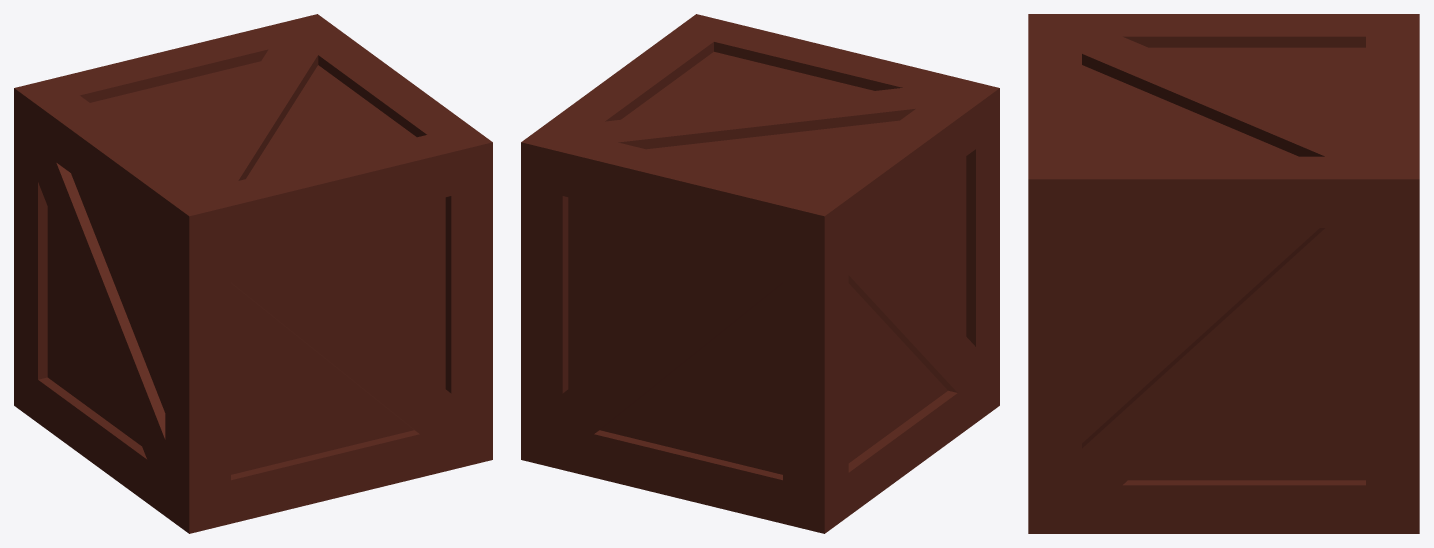
File: cratemesh.glb
3 views of the same model, side by side, from view 1: azimuth 30°, elevation 25°; view 2: azimuth 150°, elevation 25°; view 3: azimuth 270°, elevation 25° (orthographic). The views are drawn at different scales.
Visible parts, largest first — view 1: cratemesh; view 2: cratemesh; view 3: cratemesh.
Part boxes in pixels (x1=…): cratemesh: x1=14, y1=14, x2=492, y2=533; cratemesh: x1=521, y1=14, x2=999, y2=533; cratemesh: x1=1028, y1=14, x2=1419, y2=533.
Size of the model in its own units: 1.94 by 1.94 by 1.94.
